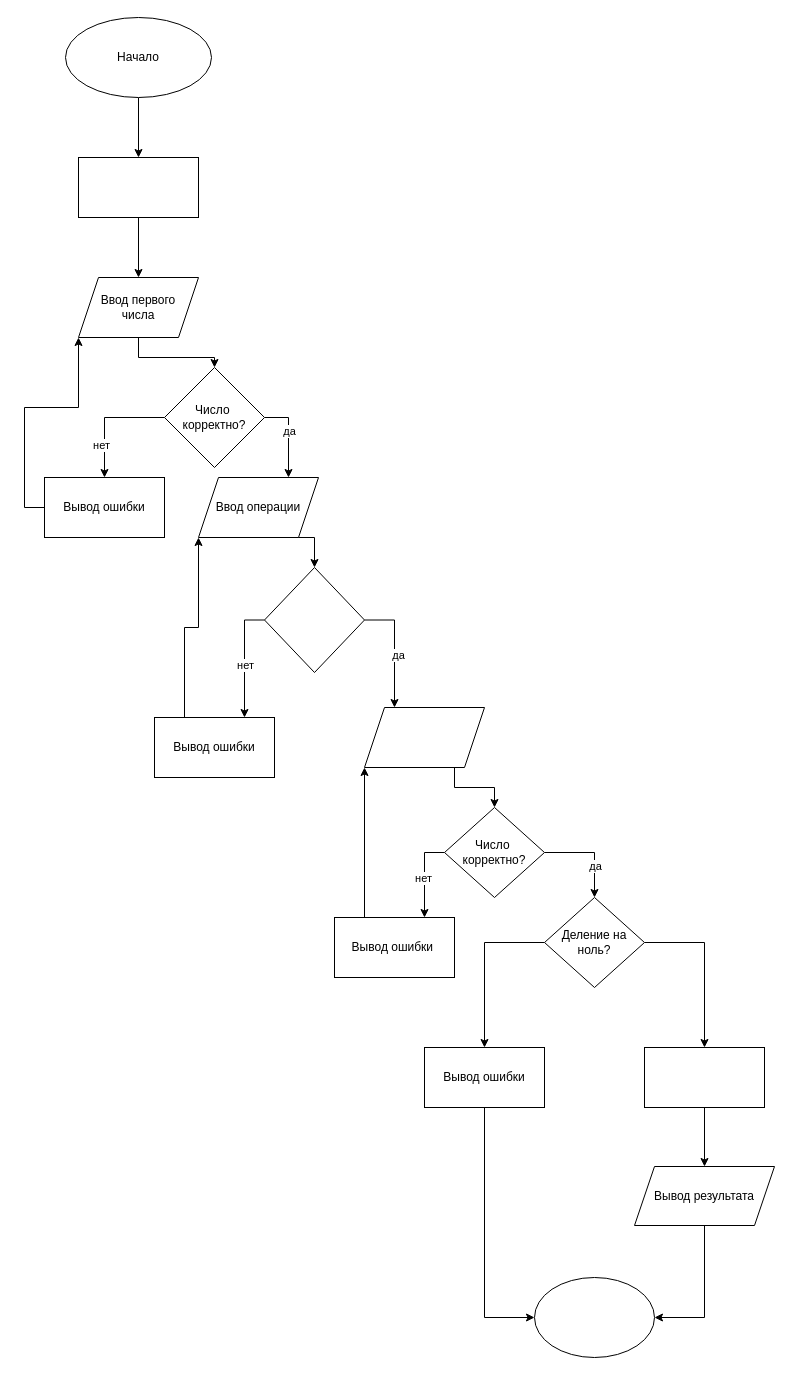
This 792x1375 diagram has some shape labels left out. Here are the shapes that lost their labels. From the top down, the box of each, then its label:
(78, 156, 198, 218): Вывод приветствия
(264, 566, 364, 672): Операция корректна?
(364, 706, 484, 768): Ввод второго числа
(644, 1046, 764, 1108): Выполнить вычисление
(534, 1276, 654, 1358): Конец
